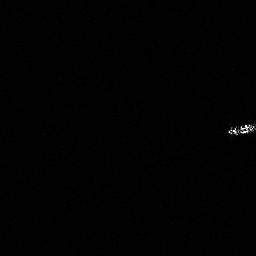ship: (225, 120, 256, 138)
